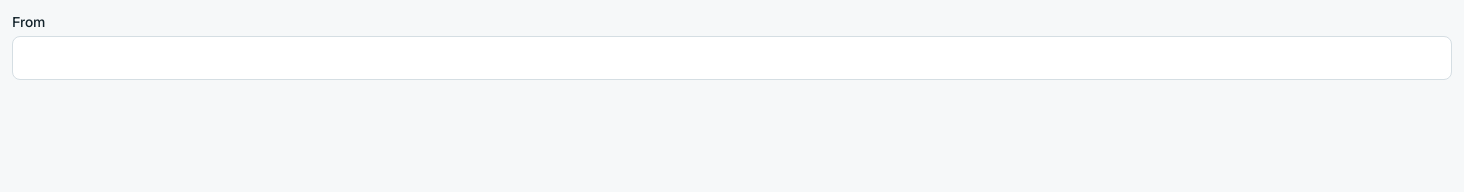
Test case: StationAutocomplete › searches after the minimum length and selects with the keyboard
Later steps or results of the test are not shown.
Step 1. Type "ti" into the dropdown labelled "From" → (732, 58), box [12,36,1452,80]
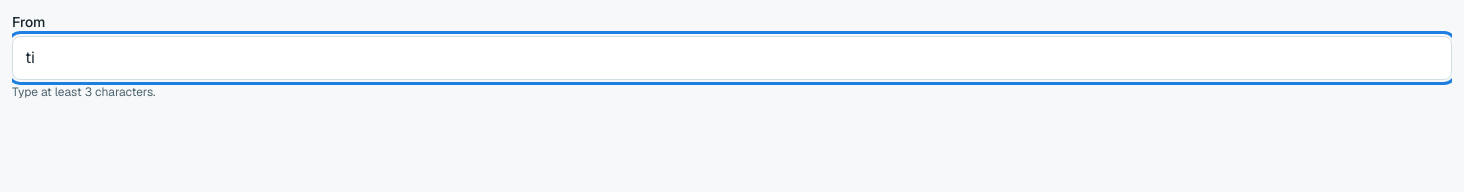
Expected: the text "Type at least 3 characters." is shown, [12,84,156,100]
Step 2. Type "r" into the dropdown labelled "From" → (732, 58), box [12,36,1452,80]
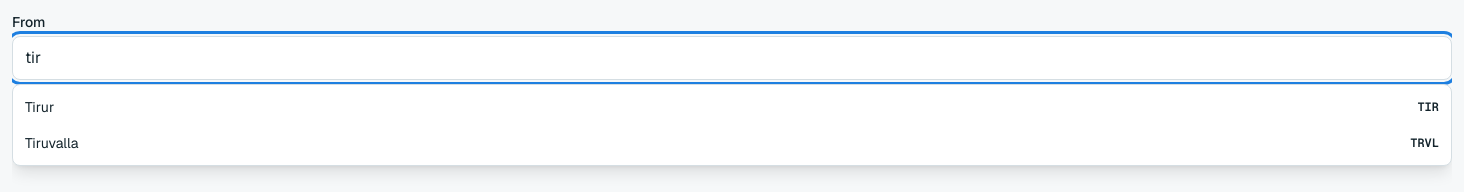
Expected: the number of options is 2, [25,98,1439,116]; [25,134,1439,152]
